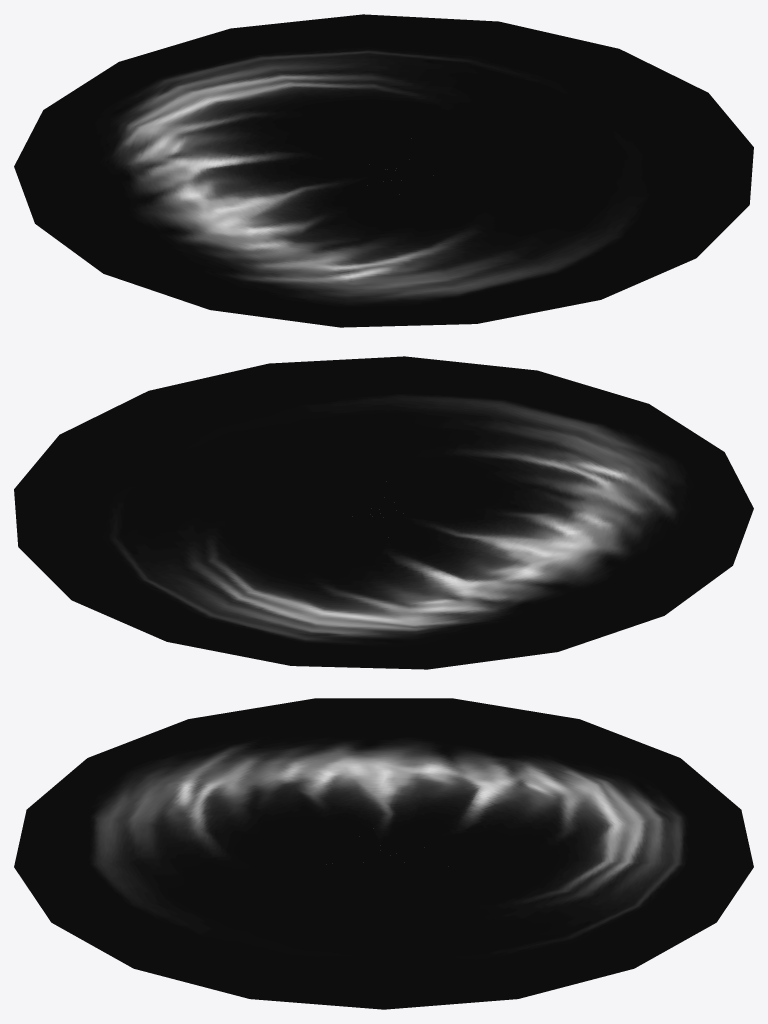
The model's file is 0143_S_FX_yuan.glb.
3 views of the same model, one above another, from view 1: azimuth 30°, elevation 25°; view 2: azimuth 150°, elevation 25°; view 3: azimuth 270°, elevation 25° (orthographic).
Size of the model in its own units: 2.19 by 1.52e-07 by 2.2.
Materials: 1 (1 with a texture image).
